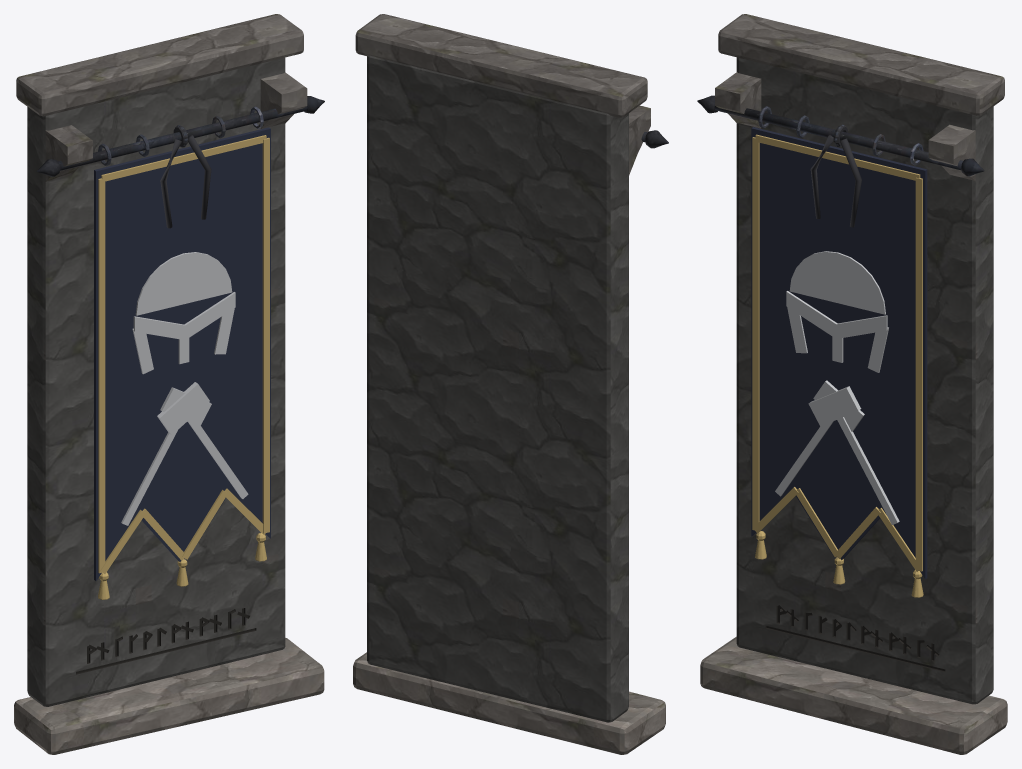
Rendered from th_mourning_banner.glb.
3 renders of one model, left to right at view 1: azimuth 30°, elevation 25°; view 2: azimuth 150°, elevation 25°; view 3: azimuth 330°, elevation 25°, orthographic.
Visible parts, largest first — view 1: model; view 2: model; view 3: model.
Boxes of the visible parts, left/top/right/bottom form: model: left=14, top=14, right=324, bottom=754; model: left=353, top=14, right=668, bottom=754; model: left=697, top=14, right=1007, bottom=754.
Size of the model in its own units: 1.02 by 2.21 by 0.277.
10 materials, 5 textured.
